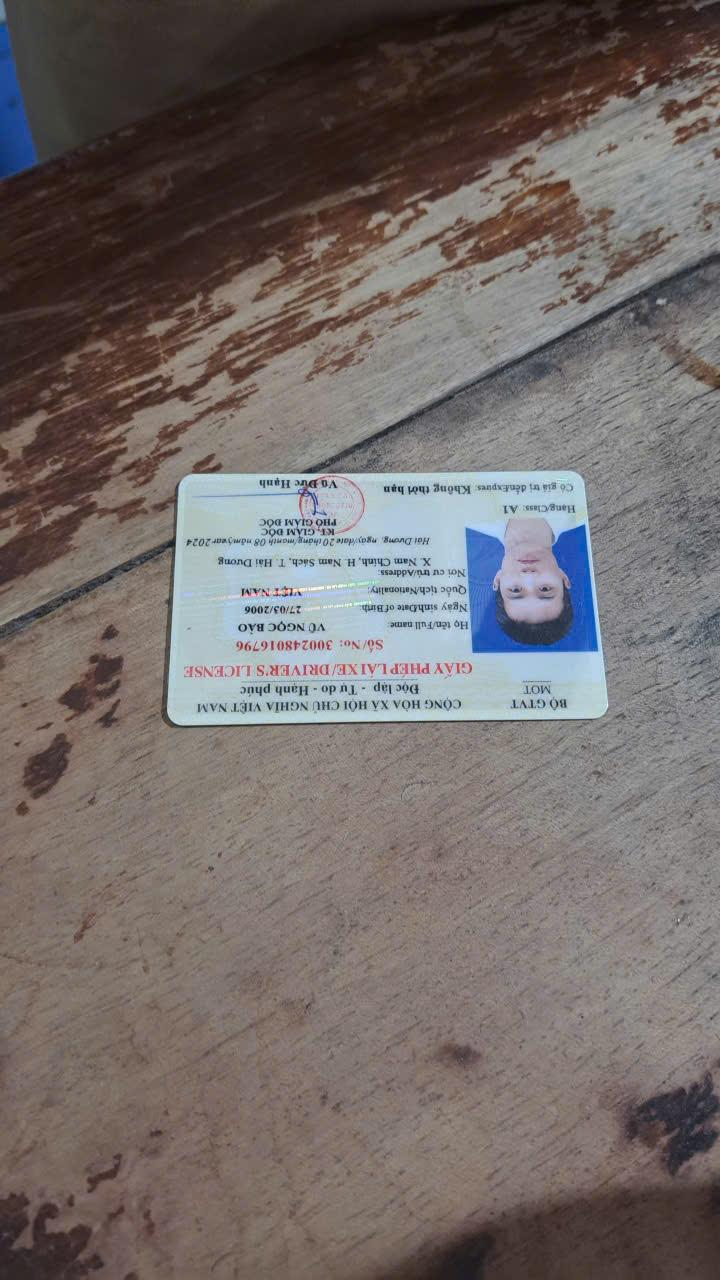gplx: (162, 465, 612, 728)
